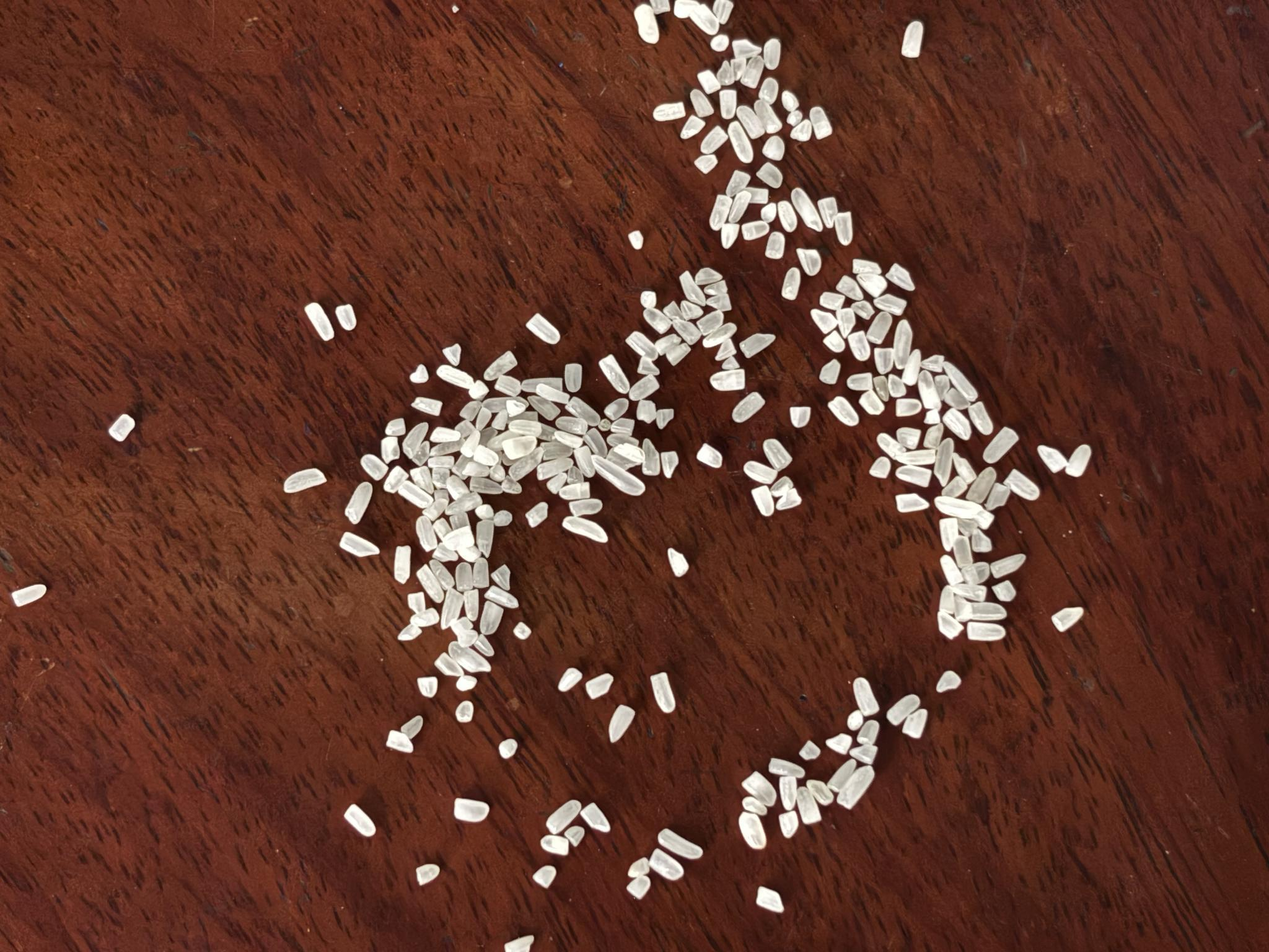Rice-th-y-nh: (590, 450, 646, 502), (933, 488, 991, 528), (656, 822, 704, 866), (836, 762, 876, 813), (788, 186, 826, 235), (447, 637, 492, 678), (561, 509, 608, 548), (941, 358, 980, 404), (982, 423, 1020, 468), (282, 462, 327, 500), (886, 319, 920, 369), (596, 352, 633, 397), (927, 436, 959, 488), (341, 479, 376, 526), (507, 444, 546, 485), (544, 796, 582, 838), (734, 809, 770, 853), (1003, 465, 1042, 505), (338, 527, 380, 564), (723, 120, 757, 165), (631, 0, 664, 46), (648, 845, 685, 886), (302, 301, 338, 343), (646, 671, 680, 715), (875, 431, 915, 467), (849, 675, 882, 718), (742, 769, 779, 807), (885, 690, 921, 729), (436, 586, 467, 631), (965, 464, 999, 505), (966, 615, 1007, 649), (414, 563, 447, 605), (605, 702, 637, 745), (731, 388, 766, 427), (760, 435, 795, 474), (436, 358, 475, 393), (912, 369, 943, 413), (751, 96, 785, 136), (453, 792, 490, 828), (989, 548, 1027, 583), (709, 363, 747, 398), (895, 458, 934, 492), (965, 595, 1007, 626), (825, 756, 858, 795), (793, 786, 824, 827), (502, 430, 538, 465), (735, 103, 767, 142), (1050, 602, 1085, 637), (343, 802, 377, 838), (739, 328, 775, 362), (525, 312, 561, 346), (898, 20, 929, 59), (565, 396, 602, 428), (397, 479, 435, 510), (768, 753, 806, 784), (1064, 442, 1094, 481), (896, 440, 936, 469), (482, 350, 518, 382), (388, 544, 416, 585), (863, 310, 894, 347), (678, 269, 708, 307), (476, 599, 506, 637), (400, 420, 429, 459), (706, 193, 735, 232), (535, 453, 574, 482), (412, 514, 441, 553), (949, 577, 988, 606), (1035, 442, 1069, 475), (688, 2, 721, 36), (702, 318, 736, 351), (626, 330, 661, 362), (941, 407, 973, 442), (793, 244, 825, 279), (521, 371, 564, 397), (900, 706, 931, 742), (872, 289, 908, 320), (806, 104, 836, 141), (471, 518, 498, 559), (966, 399, 995, 437), (935, 514, 963, 553), (637, 438, 665, 477), (484, 391, 526, 417), (828, 394, 861, 427), (742, 458, 779, 487), (949, 533, 977, 571), (580, 801, 612, 834), (584, 669, 615, 703), (359, 450, 390, 484), (698, 123, 729, 157), (526, 393, 561, 423), (935, 608, 965, 643), (949, 451, 979, 486), (738, 55, 768, 90), (894, 488, 930, 517), (726, 188, 754, 225), (805, 776, 836, 809), (652, 97, 686, 127), (983, 480, 1012, 515), (937, 553, 966, 588), (749, 483, 778, 518), (899, 349, 925, 388), (846, 328, 874, 364), (628, 372, 660, 403), (670, 317, 703, 347), (640, 306, 673, 336), (566, 494, 604, 520), (723, 167, 752, 201), (581, 426, 610, 460), (854, 271, 888, 300), (428, 557, 456, 592), (830, 210, 857, 246), (778, 266, 805, 302), (776, 775, 802, 812), (835, 273, 866, 304), (808, 306, 839, 337), (885, 262, 916, 293), (433, 651, 465, 681), (755, 159, 785, 191), (695, 440, 725, 472), (409, 463, 438, 496), (539, 437, 573, 465), (469, 471, 503, 499), (535, 381, 571, 407), (484, 585, 520, 611), (489, 427, 525, 453), (447, 491, 483, 517), (507, 415, 543, 441), (754, 885, 785, 915), (385, 726, 415, 757), (382, 463, 410, 496), (774, 200, 801, 234), (571, 444, 598, 478), (715, 86, 741, 121), (555, 412, 590, 438), (961, 558, 991, 588), (469, 555, 494, 591), (454, 457, 490, 482), (540, 830, 571, 859), (664, 546, 692, 578), (871, 344, 898, 377), (815, 195, 841, 229), (759, 37, 785, 71), (849, 740, 879, 769), (695, 307, 725, 336), (760, 132, 788, 163), (688, 88, 715, 120), (11, 583, 47, 607), (851, 253, 883, 280), (411, 392, 443, 419), (611, 441, 645, 466), (449, 617, 478, 646), (858, 388, 886, 418), (740, 217, 771, 244), (696, 67, 723, 98), (523, 499, 550, 530), (559, 478, 590, 505), (561, 361, 586, 394), (451, 561, 476, 594), (678, 112, 706, 141), (893, 423, 922, 451), (935, 667, 963, 696), (968, 526, 995, 556), (824, 730, 854, 757), (399, 712, 426, 742), (531, 862, 558, 892), (776, 809, 802, 840), (762, 230, 788, 261), (856, 718, 882, 749), (950, 594, 976, 625), (556, 666, 584, 694), (990, 577, 1018, 605), (664, 340, 692, 368), (422, 496, 450, 524), (414, 860, 441, 889), (942, 386, 971, 413), (494, 372, 523, 399), (108, 413, 135, 442), (461, 588, 484, 622), (893, 394, 923, 420), (818, 357, 844, 387), (731, 35, 761, 61), (333, 302, 359, 332), (377, 434, 402, 465), (834, 306, 858, 338), (552, 427, 584, 451), (940, 474, 968, 501), (653, 329, 680, 357), (846, 369, 875, 395), (415, 672, 441, 701), (919, 350, 948, 376), (757, 76, 782, 106), (657, 449, 682, 479), (459, 428, 484, 458), (626, 873, 652, 901), (634, 397, 659, 426), (693, 264, 722, 289), (430, 422, 459, 447), (718, 220, 742, 250), (922, 421, 946, 451), (607, 428, 639, 450), (789, 117, 815, 144), (692, 150, 718, 177), (970, 505, 996, 532), (473, 443, 500, 469), (775, 487, 803, 512), (788, 403, 813, 431), (868, 454, 893, 482), (818, 288, 846, 313), (740, 794, 769, 818), (490, 563, 514, 592), (670, 0, 703, 21), (410, 608, 440, 631), (501, 932, 535, 952), (709, 0, 736, 25), (444, 474, 471, 499), (769, 473, 794, 500), (931, 372, 954, 401), (937, 584, 958, 615), (957, 514, 982, 540), (626, 854, 651, 880), (604, 397, 630, 422), (884, 373, 908, 400), (822, 328, 846, 355), (455, 541, 482, 565), (653, 404, 677, 431), (706, 290, 733, 314), (609, 414, 636, 438), (870, 374, 893, 402), (727, 55, 749, 84), (714, 336, 738, 362), (678, 298, 704, 322), (563, 823, 587, 849), (661, 299, 687, 323), (458, 398, 484, 422), (743, 184, 770, 207), (432, 542, 459, 565), (714, 59, 736, 87), (798, 738, 822, 763), (850, 298, 875, 322), (384, 414, 408, 439), (546, 470, 569, 496), (472, 632, 495, 658), (432, 515, 454, 542), (411, 439, 433, 466), (430, 465, 453, 490), (454, 699, 476, 725), (397, 622, 423, 644), (427, 452, 456, 471), (636, 355, 661, 377), (406, 590, 428, 615), (497, 736, 519, 761), (473, 406, 494, 432), (467, 379, 490, 402), (455, 672, 478, 695), (408, 363, 431, 386), (504, 398, 528, 420), (442, 342, 463, 367), (780, 89, 801, 113), (845, 708, 865, 733), (704, 278, 729, 298), (453, 418, 476, 439), (760, 200, 780, 224), (512, 620, 533, 642), (638, 289, 659, 311), (710, 32, 731, 54), (490, 409, 510, 432), (643, 0, 673, 15), (474, 501, 495, 522), (493, 508, 514, 528), (501, 477, 523, 496), (922, 407, 942, 427), (720, 354, 742, 372), (627, 229, 645, 251), (488, 464, 508, 483), (787, 108, 803, 128), (596, 416, 613, 434)
